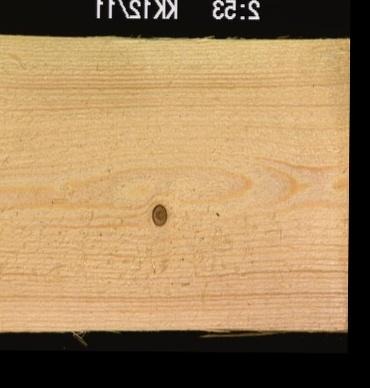dry_knot: (148, 200, 169, 227)
